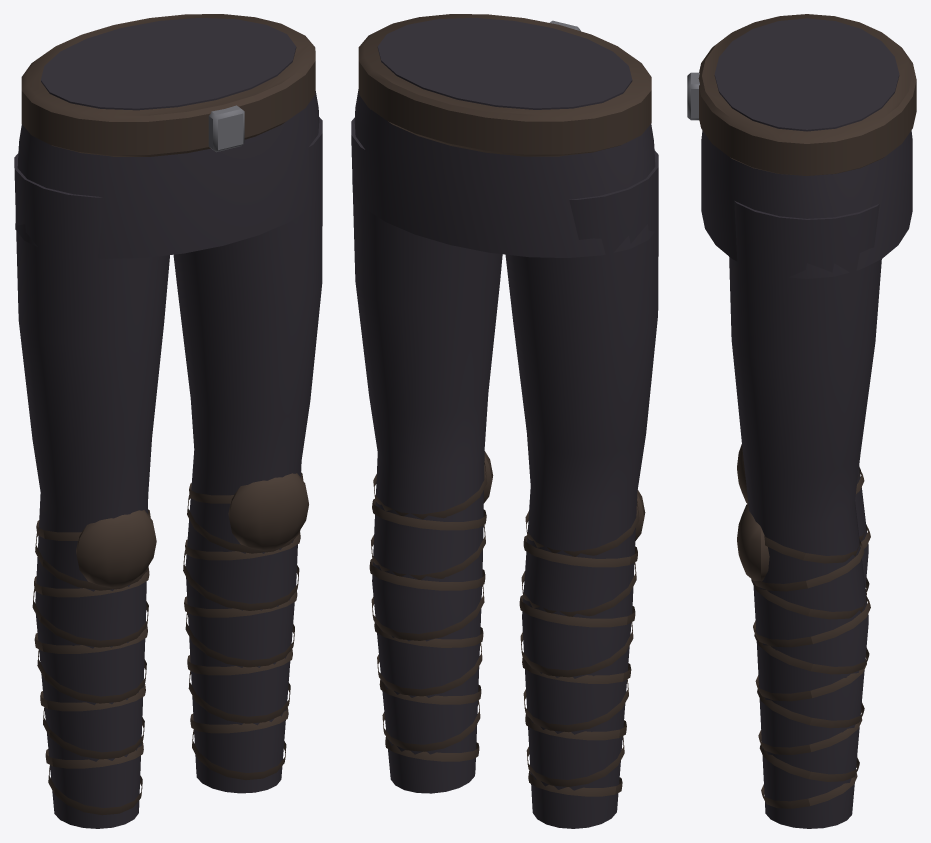
File: silentstep_breeches.glb
3 views of the same model, side by side, from view 1: azimuth 30°, elevation 25°; view 2: azimuth 150°, elevation 25°; view 3: azimuth 270°, elevation 25° (orthographic). The views are drawn at different scales.
Visible parts, largest first — view 1: silentstep_breeches; view 2: silentstep_breeches; view 3: silentstep_breeches.
Part boxes in pixels (x1,y1,x2,y2): silentstep_breeches: [14, 14, 322, 828]; silentstep_breeches: [351, 14, 658, 828]; silentstep_breeches: [687, 14, 916, 828].
Bounding box in the file's own units: 0.2912 × 0.7066 × 0.2084.
